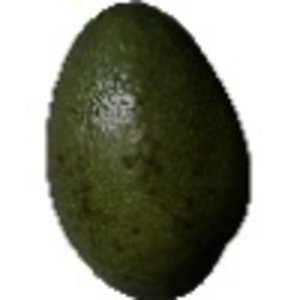abacate: (44, 1, 251, 298)
